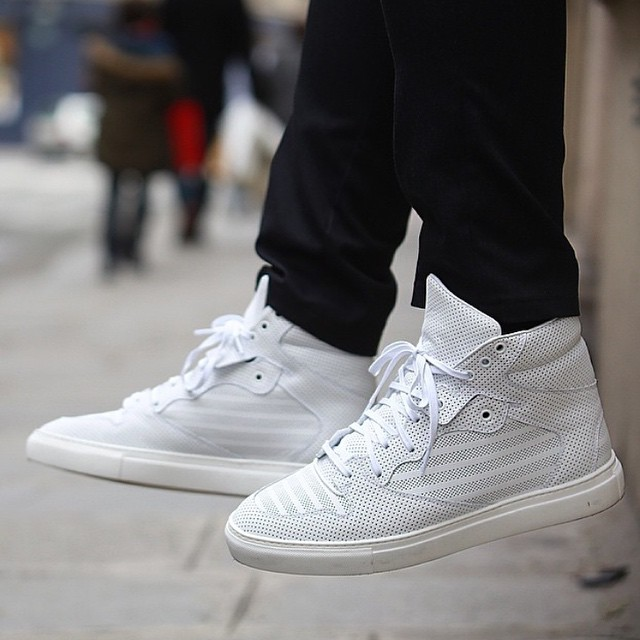sneaker: (203, 250, 639, 598), (11, 274, 395, 539)
